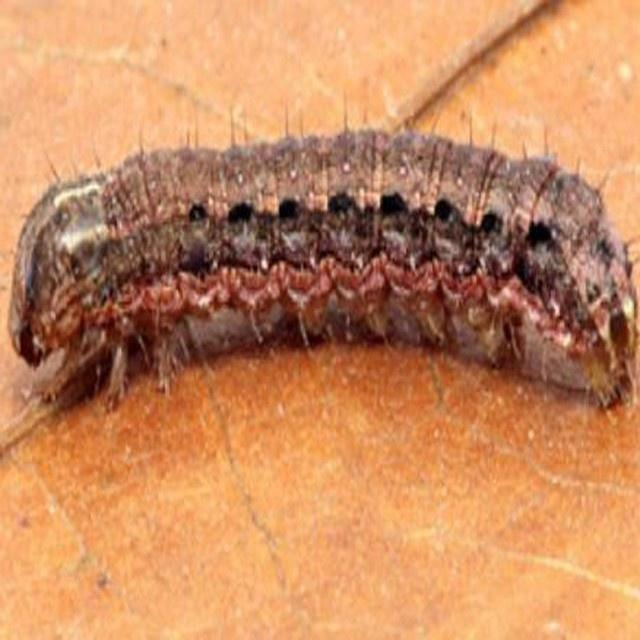gusano_cogollero: (3, 121, 640, 409)
